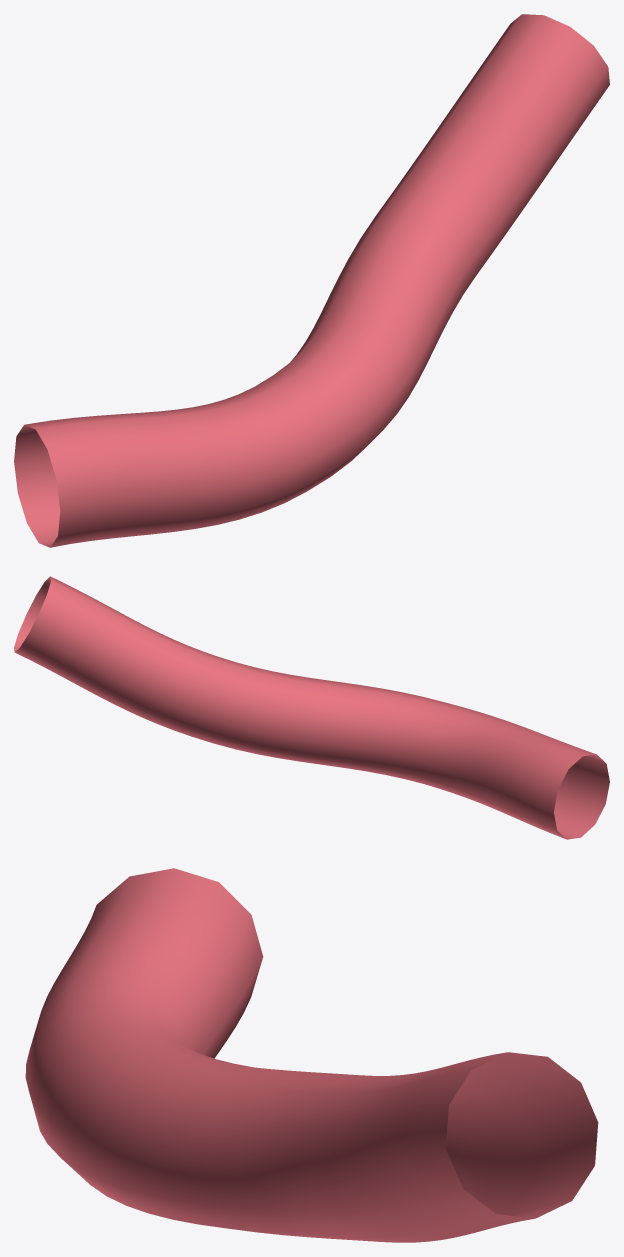
3 views of the same model, one above another, from view 1: azimuth 30°, elevation 25°; view 2: azimuth 150°, elevation 25°; view 3: azimuth 270°, elevation 25° (orthographic). The views are drawn at different scales.
Visible parts, largest first — view 1: ZA_9a718f0a643f82be; view 2: ZA_9a718f0a643f82be; view 3: ZA_9a718f0a643f82be.
Part boxes in pixels (x1,y1,x2,y2): ZA_9a718f0a643f82be: (14,14,609,547); ZA_9a718f0a643f82be: (14,576,609,839); ZA_9a718f0a643f82be: (25,868,598,1242).
Bounding box in the file's own units: 0.0187 × 0.00764 × 0.0095.
